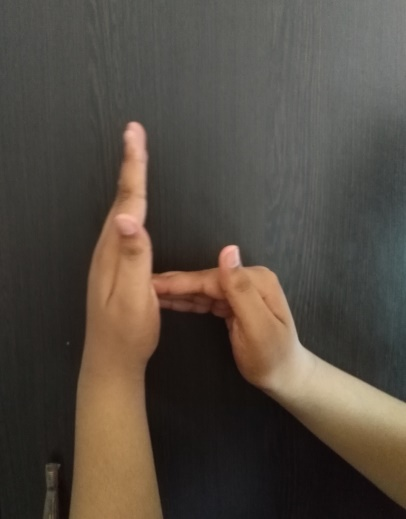ga: (73, 120, 308, 389)
